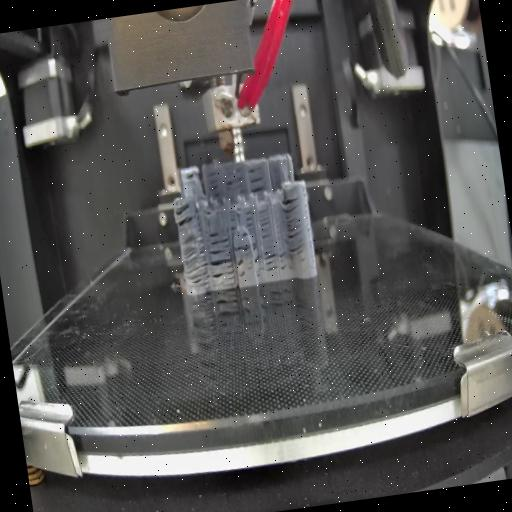cracks: (180, 234, 212, 290), (280, 194, 308, 256), (209, 248, 236, 284), (264, 246, 291, 276), (247, 164, 268, 196), (175, 204, 199, 228), (258, 208, 274, 242), (205, 170, 223, 200), (226, 172, 248, 196), (210, 229, 230, 249), (252, 241, 264, 268), (244, 209, 256, 230), (227, 212, 239, 232), (234, 244, 252, 256), (238, 259, 248, 279), (185, 172, 196, 181), (240, 231, 250, 238)
